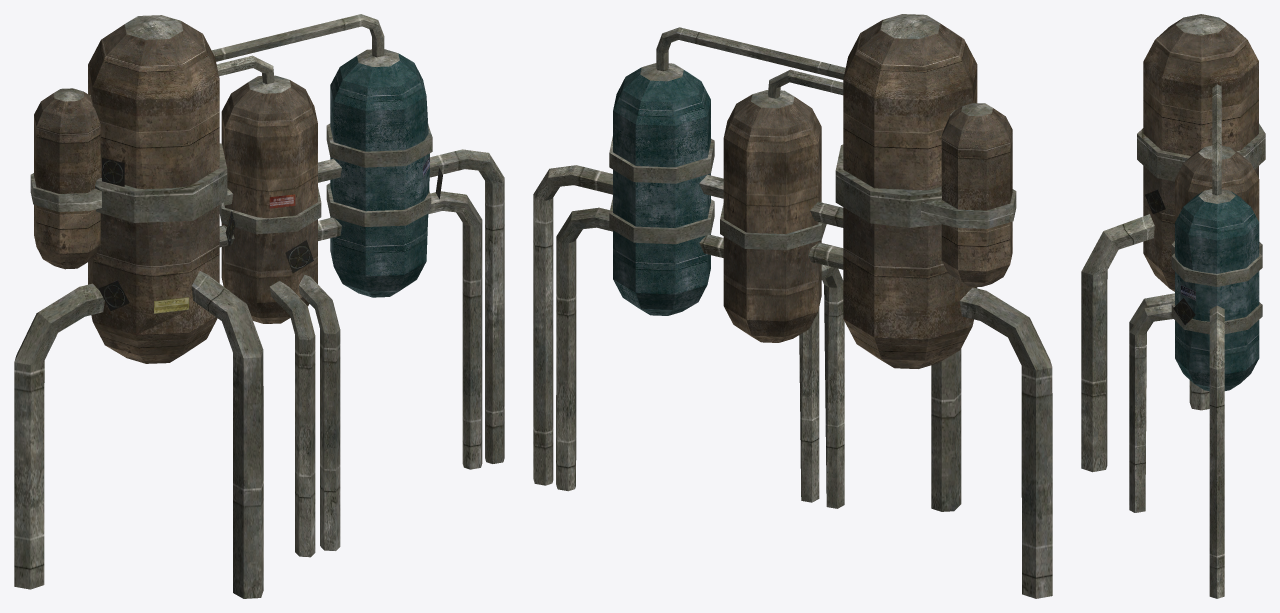
File: thm_all_tankfarm_s01_l1.fbx
The picture shows the model from 3 angles, left to right: view 1: azimuth 30°, elevation 25°; view 2: azimuth 150°, elevation 25°; view 3: azimuth 270°, elevation 25°; orthographic projection. The views are drawn at different scales.
Parts seen in each view (by area): view 1: mesh_node; view 2: mesh_node; view 3: mesh_node.
Part boxes in pixels (x1,y1,x2,y2): mesh_node: [14, 14, 504, 598]; mesh_node: [533, 14, 1052, 598]; mesh_node: [1081, 14, 1265, 598].
Size of the model in its own units: 8.97 by 9.11 by 3.5.
